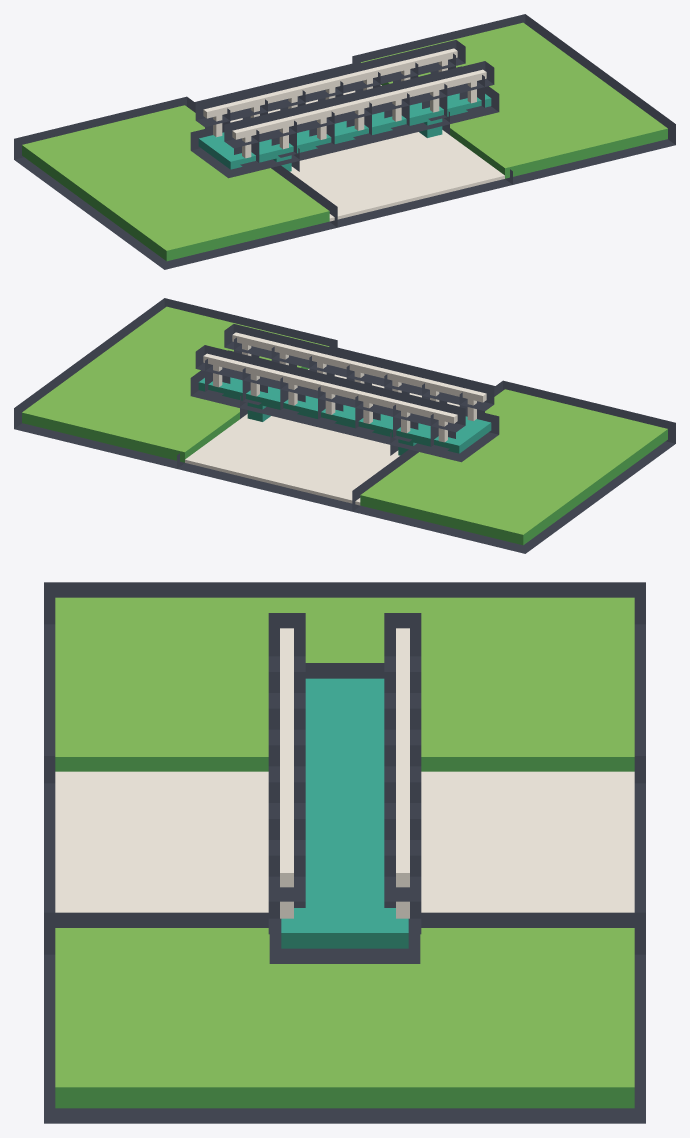
The model's file is skill_fraction_bridge_t1.glb.
The picture shows the model from 3 angles, top to bottom: view 1: azimuth 30°, elevation 25°; view 2: azimuth 150°, elevation 25°; view 3: azimuth 270°, elevation 25°; orthographic projection. The views are drawn at different scales.
Visible parts, largest first — view 1: base, ink_outline (×3), grow_rails, grow_deck; view 2: base, ink_outline (×3), grow_rails, grow_deck; view 3: base, ink_outline (×3), grow_deck, grow_rails.
Part boxes in pixels (<box>): base: <box>22,22,667,261</box>; ink_outline (×3): <box>14,14,675,269</box>; grow_rails: <box>203,48,486,158</box>; grow_deck: <box>198,93,491,171</box>; base: <box>22,306,667,545</box>; ink_outline (×3): <box>14,298,675,553</box>; grow_rails: <box>203,332,486,442</box>; grow_deck: <box>198,377,491,455</box>; base: <box>55,597,634,1108</box>; ink_outline (×3): <box>44,582,645,1123</box>; grow_deck: <box>281,678,408,948</box>; grow_rails: <box>280,628,409,918</box>.
Bounding box in the file's own units: 2.04 × 0.255 × 1.04.
